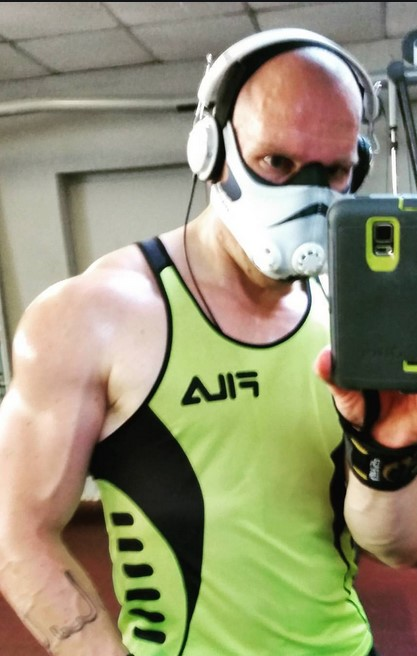face_with_mask: (181, 22, 380, 290)
